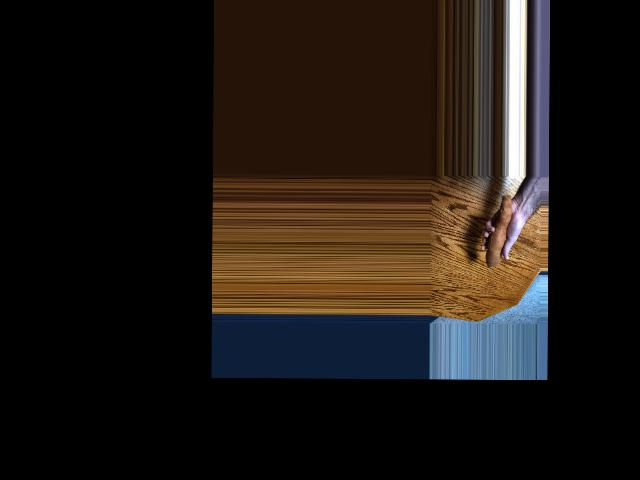sweet_potato: (485, 196, 512, 269)
